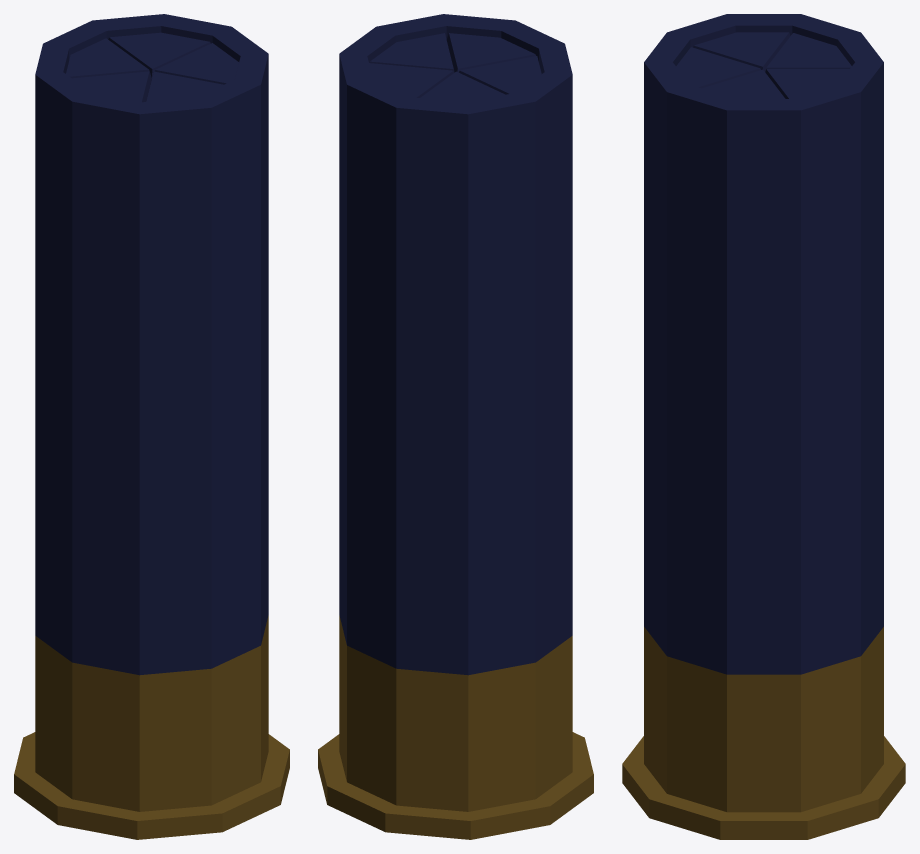
File: Shotgun Slug.fbx
3 renders of one model, left to right at view 1: azimuth 30°, elevation 25°; view 2: azimuth 150°, elevation 25°; view 3: azimuth 270°, elevation 25°, orthographic.
Visible parts, largest first — view 1: Shotgun Slug; view 2: Shotgun Slug; view 3: Shotgun Slug.
Boxes of the visible parts, x1,y1,x2,y2 form: Shotgun Slug: (14, 14, 289, 839); Shotgun Slug: (318, 14, 593, 839); Shotgun Slug: (622, 14, 905, 839).
Bounding box in the file's own units: 2.84 × 8.36 × 2.98.
